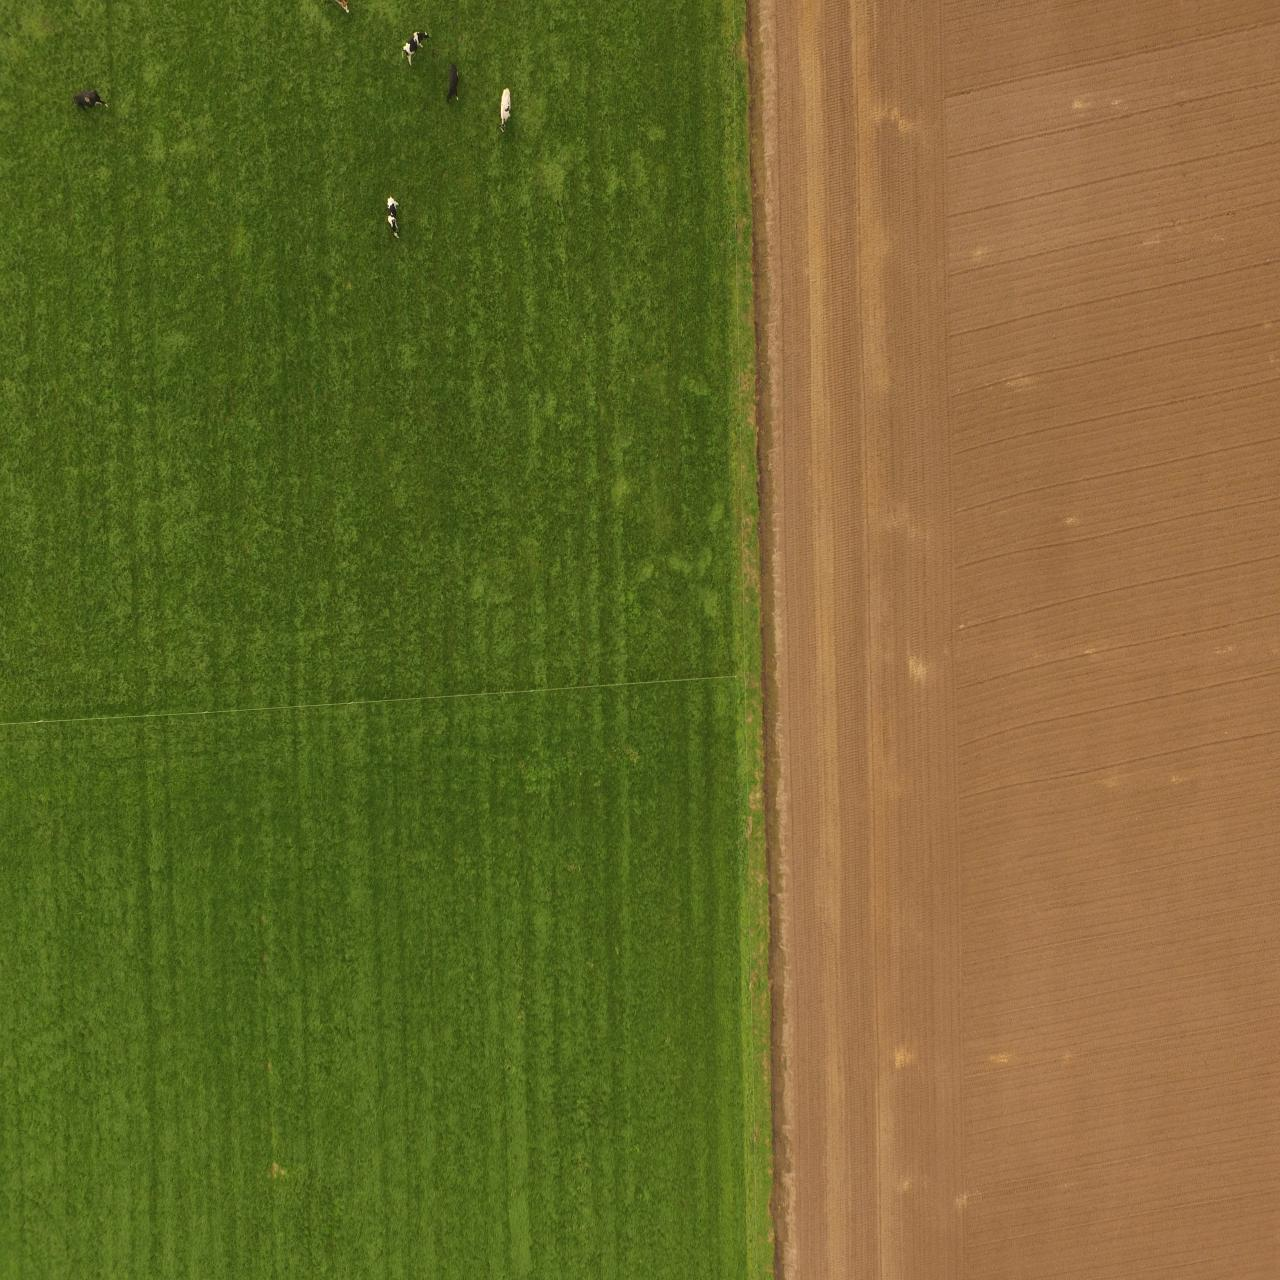cow: (396, 27, 430, 64), (68, 89, 111, 115), (443, 57, 463, 105), (386, 195, 403, 244), (501, 84, 513, 132)
